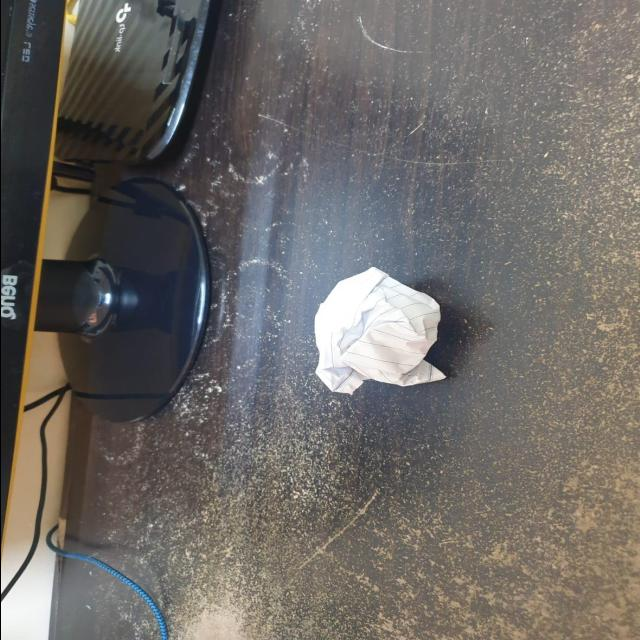kertas: (307, 267, 442, 397)
